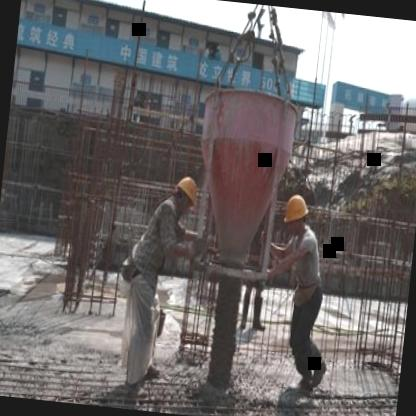helmet: (280, 187, 312, 235), (170, 171, 200, 216)
